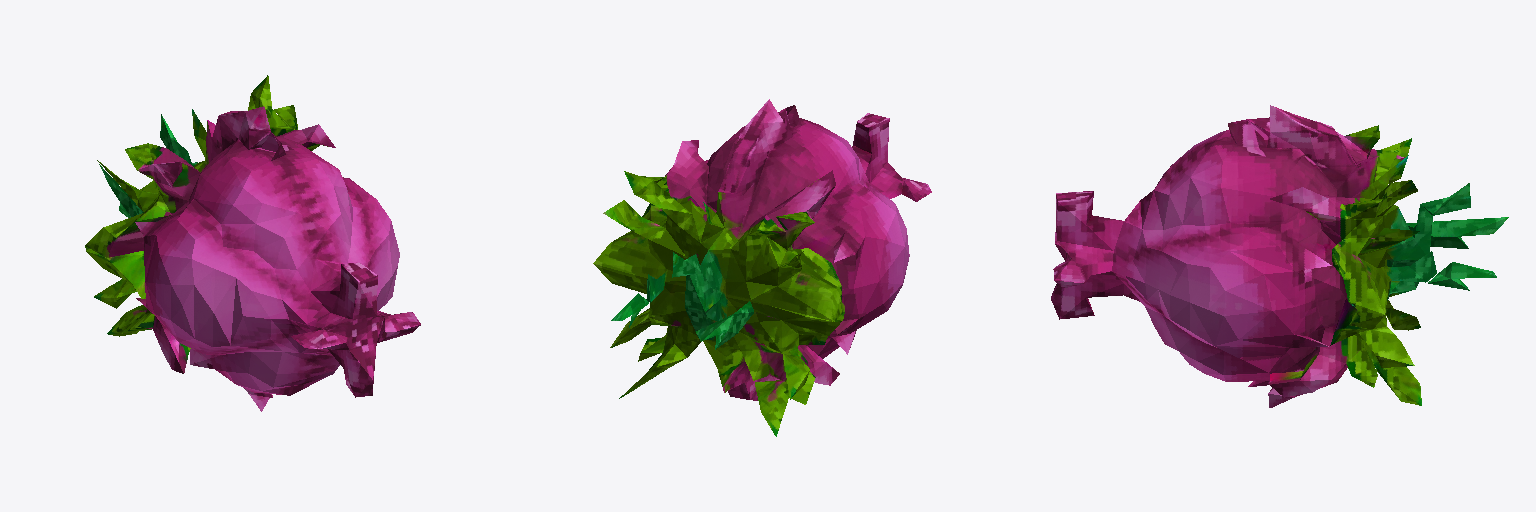
3 views of the same model, side by side, from view 1: azimuth 30°, elevation 25°; view 2: azimuth 150°, elevation 25°; view 3: azimuth 270°, elevation 25° (orthographic).
Bounding box in the file's own units: 0.5588 × 0.6655 × 0.907.
1 materials, 1 textured.